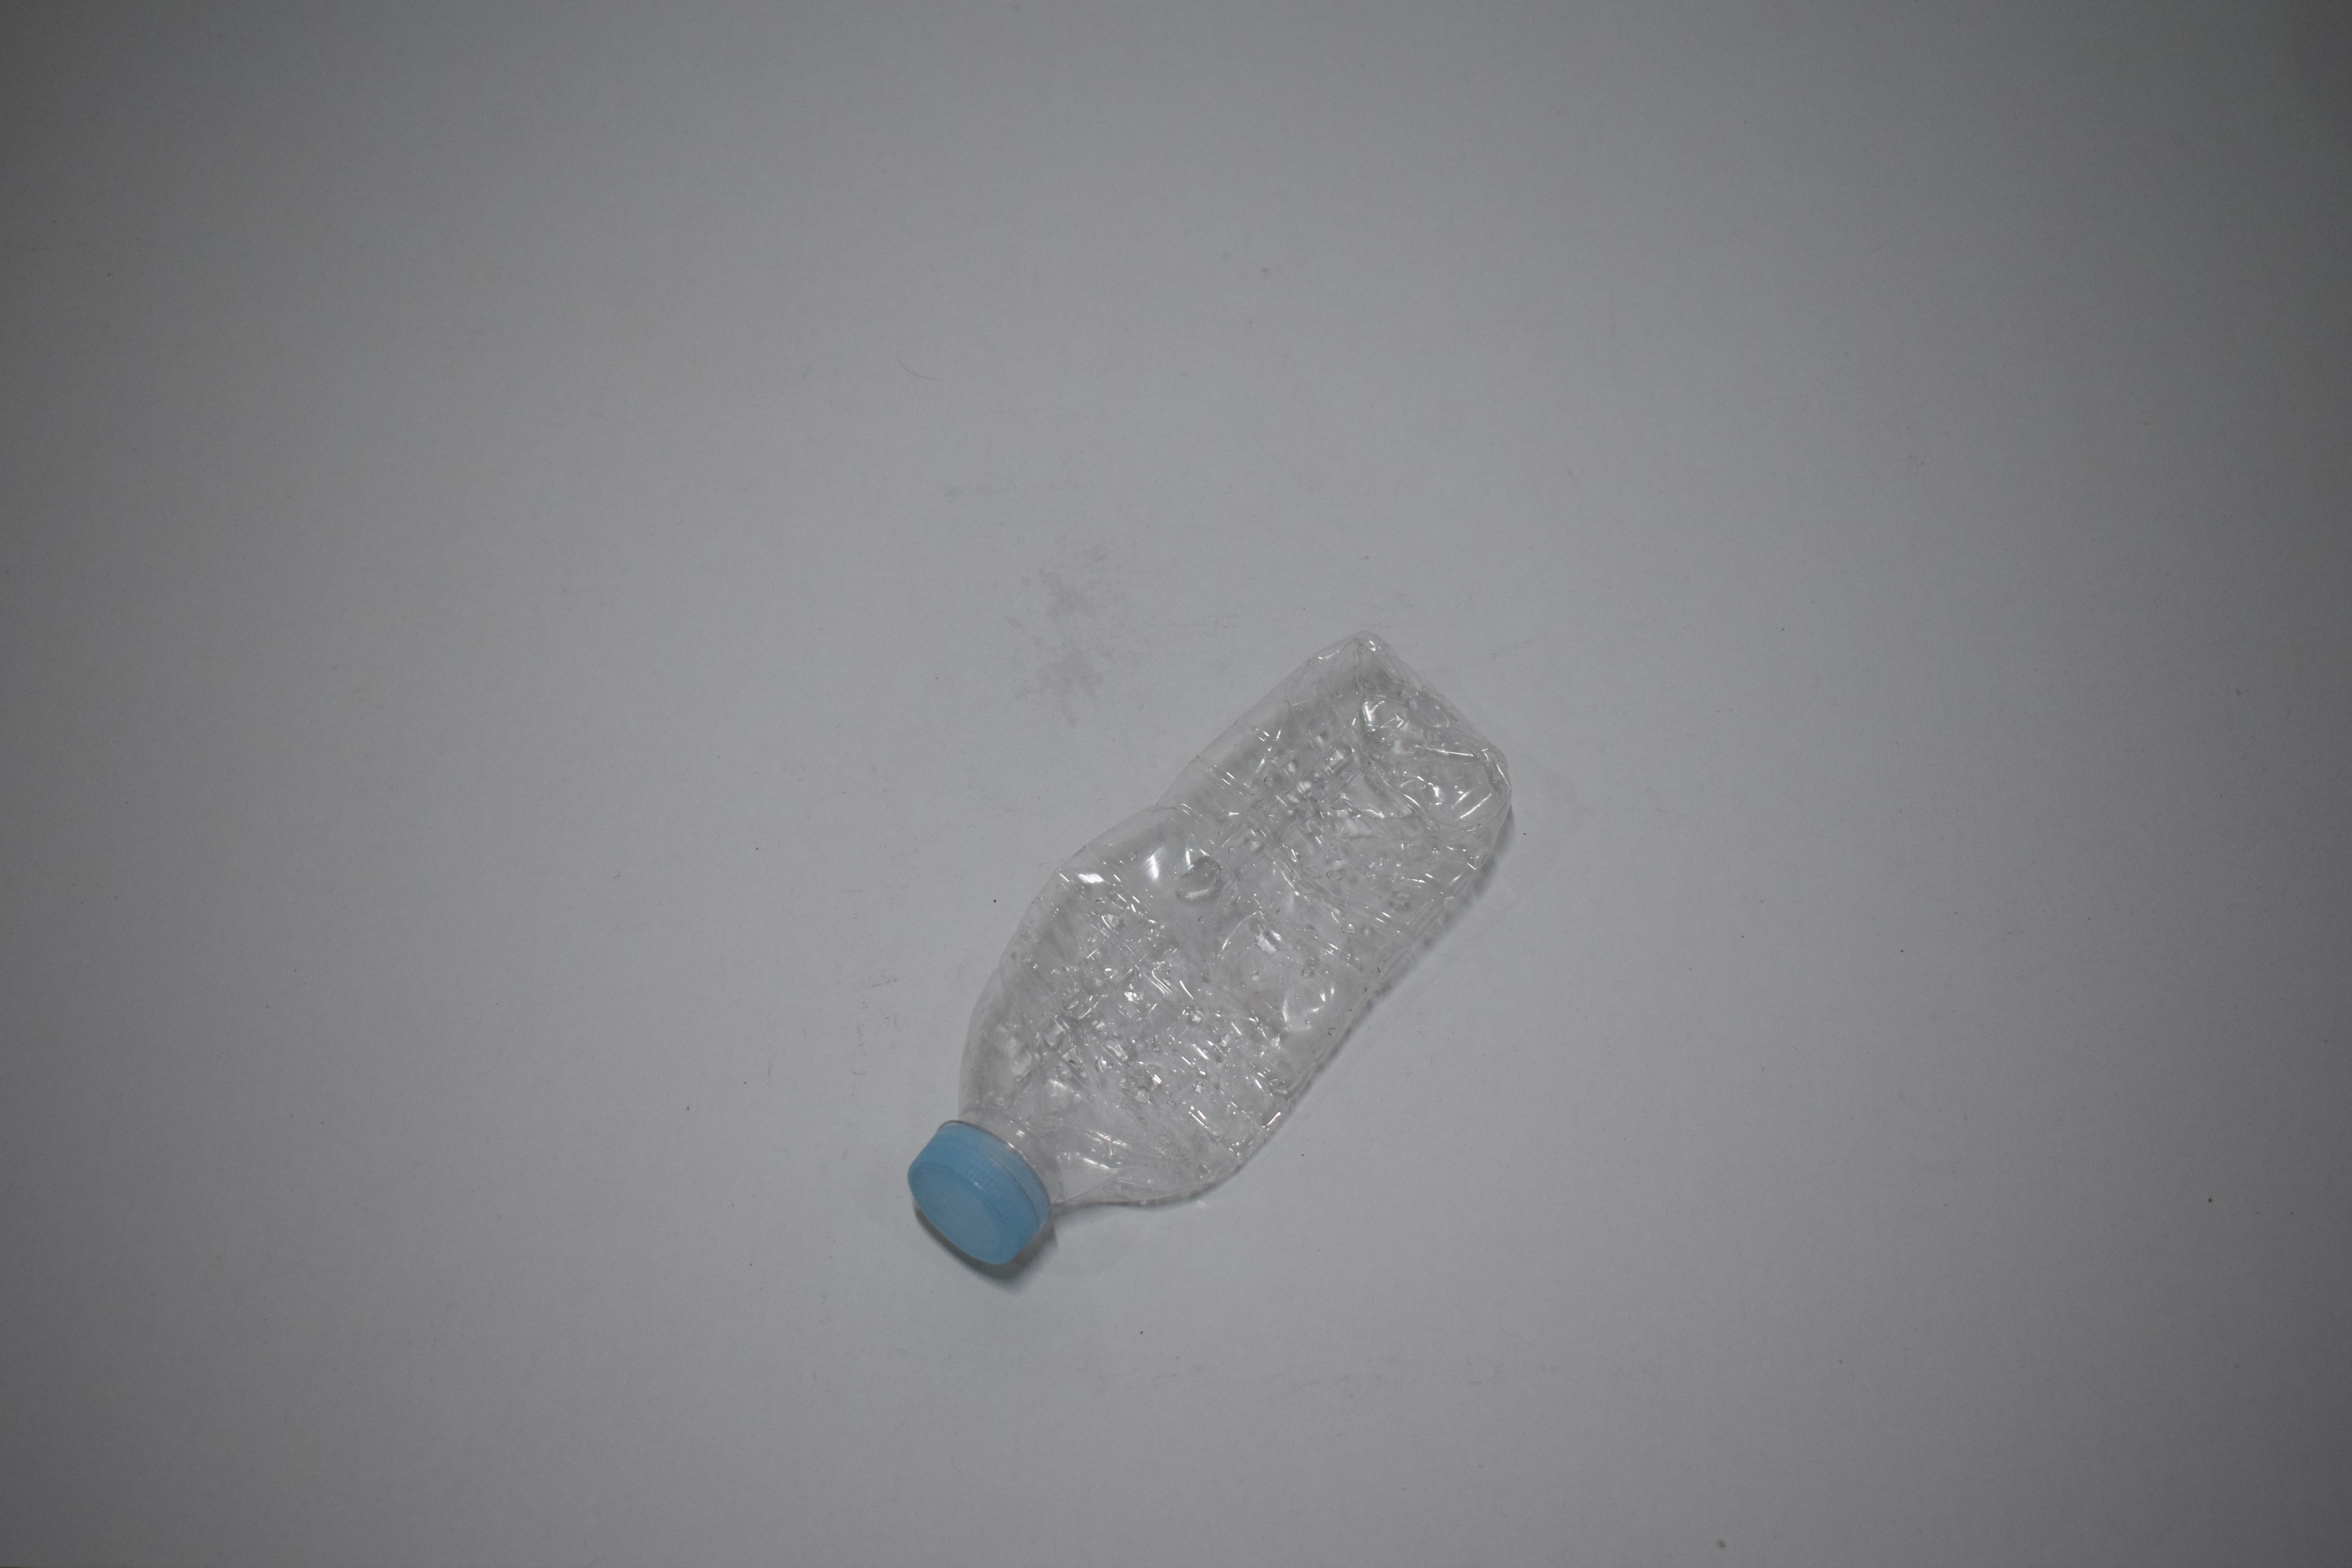bottle: (0, 616, 341, 1284)
